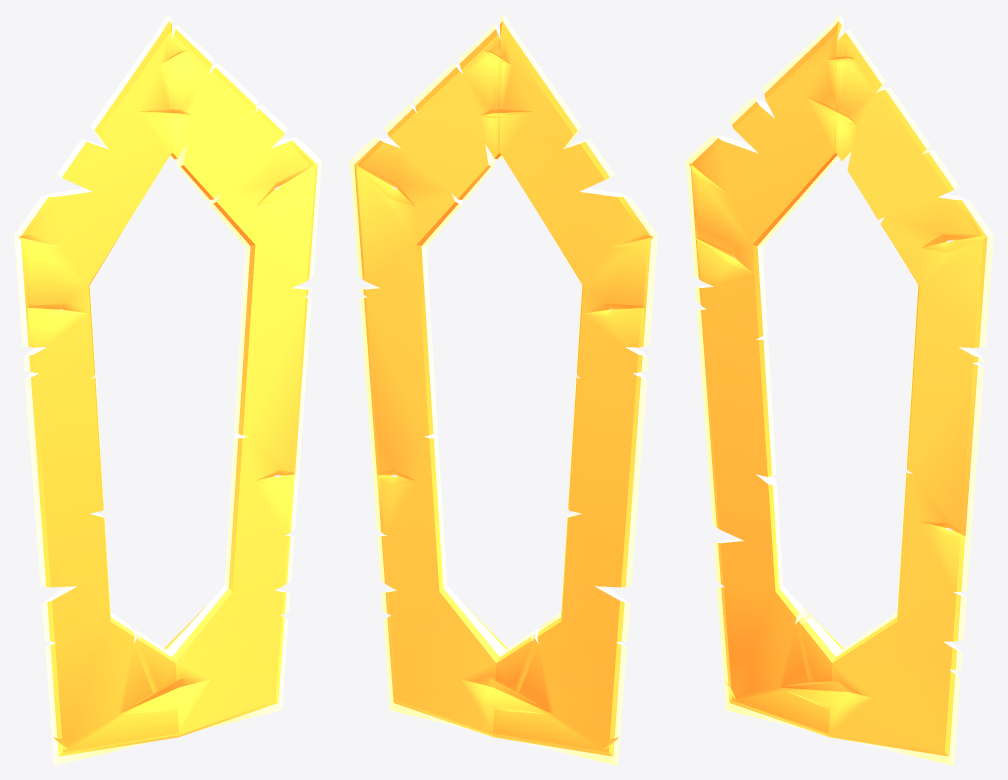
Rendered from gold_blade_scratched_047.glb.
3 views of the same model, side by side, from view 1: azimuth 30°, elevation 25°; view 2: azimuth 150°, elevation 25°; view 3: azimuth 330°, elevation 25° (orthographic).
Visible parts, largest first — view 1: gold_blade_scratched.047; view 2: gold_blade_scratched.047; view 3: gold_blade_scratched.047.
Part boxes in pixels (bbox=[...]): gold_blade_scratched.047: bbox=[14, 14, 321, 765]; gold_blade_scratched.047: bbox=[350, 14, 657, 765]; gold_blade_scratched.047: bbox=[686, 14, 993, 765].
Bounding box in the file's own units: 5.08 × 11.42 × 0.6326.
Materials: 1 (1 with a texture image).
